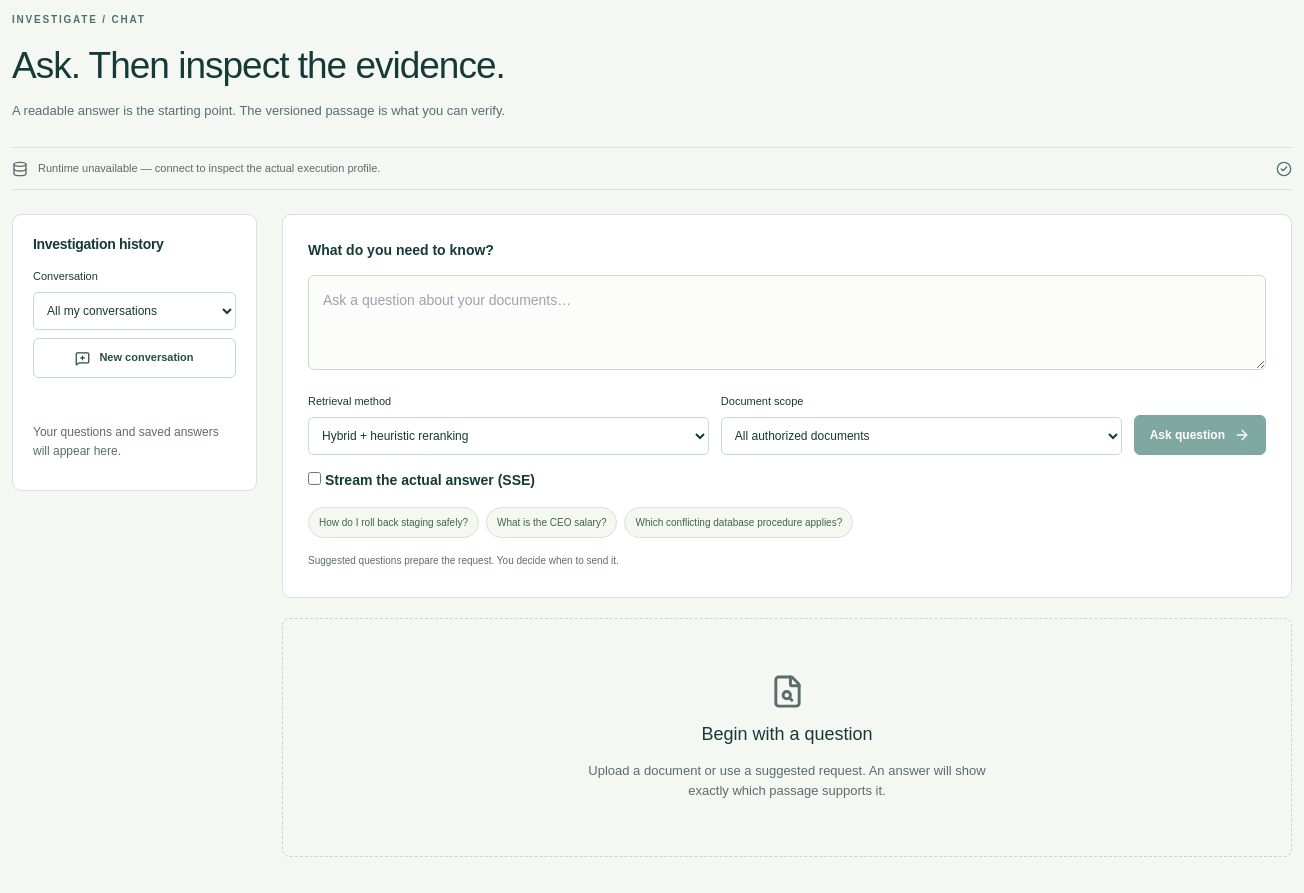
Test case: connected chat request lifecycle › can submit again after cancellation without old cleanup aborting the new request
The image size is (1304, 893).
Type "Private question" into the text box labelled "What do you need to know?".
click(787, 323); type("Private question")  # box [308, 275, 1266, 370]
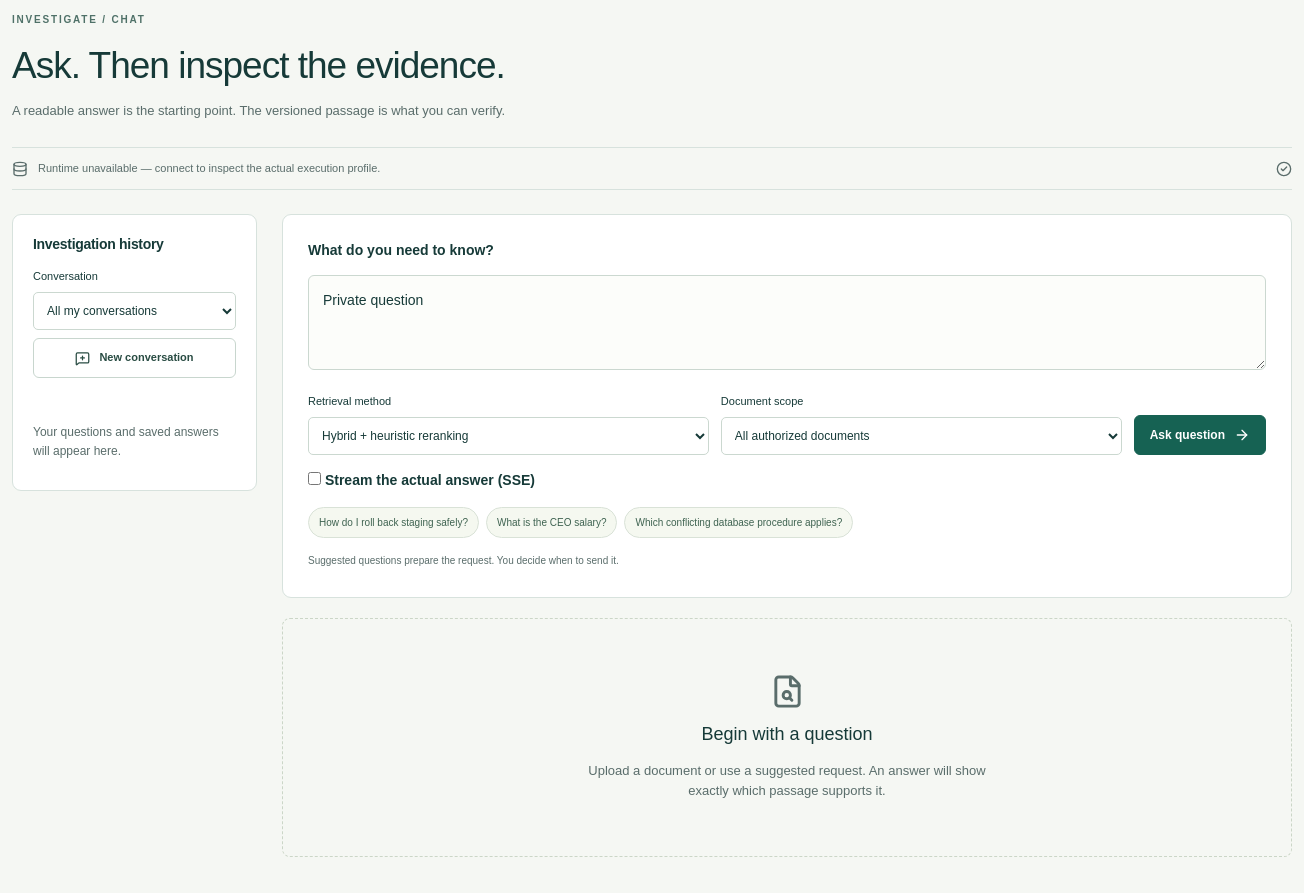
Click the button "Ask question".
click(1200, 435)  # box [1134, 415, 1266, 455]
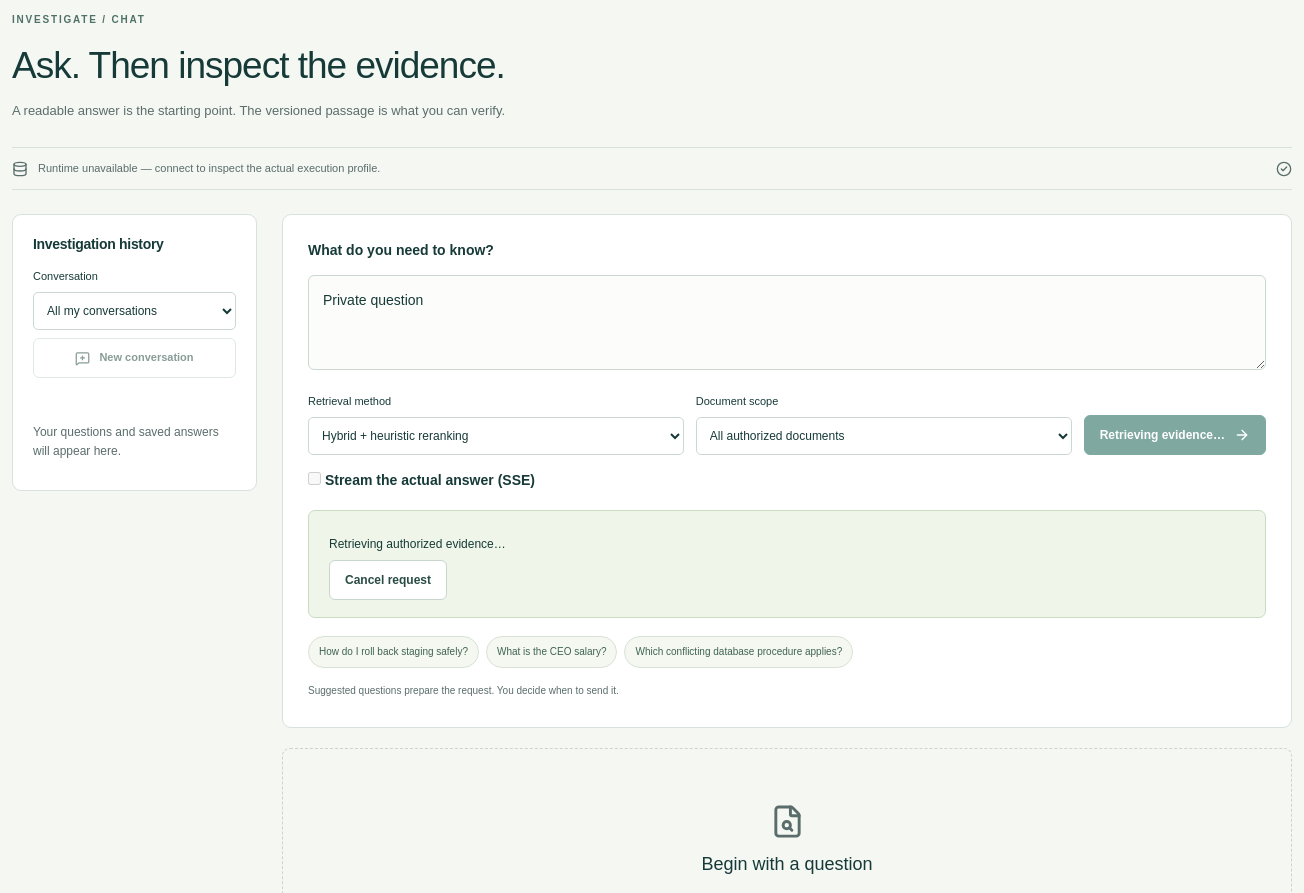
Click the button "Cancel request".
click(388, 580)  # box [329, 560, 447, 600]
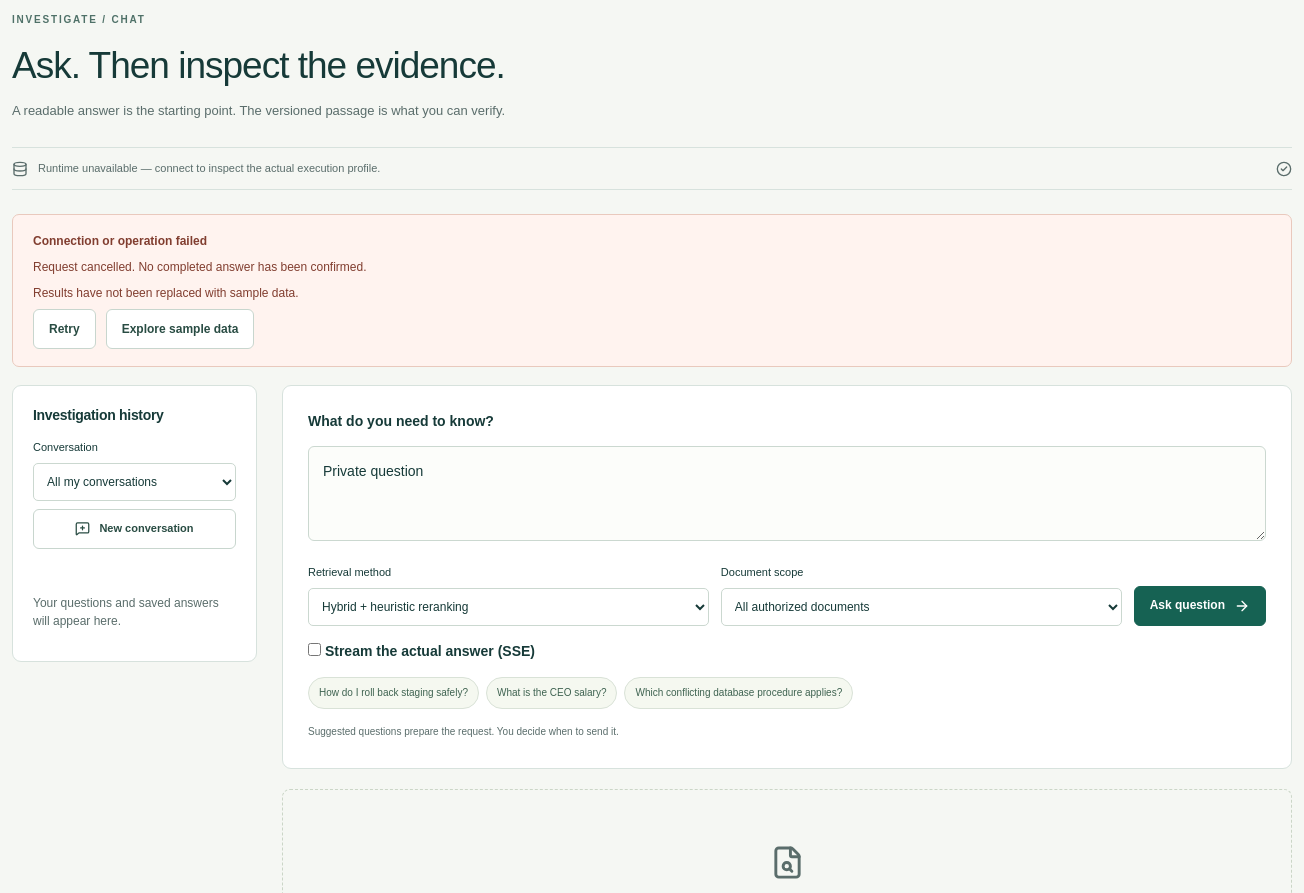
Now the button "Ask question" is enabled, box [1134, 586, 1266, 626]
Replace the text in the text box labelled "What do you need to know?" with "New request" at point(787, 493), box [308, 446, 1266, 541]
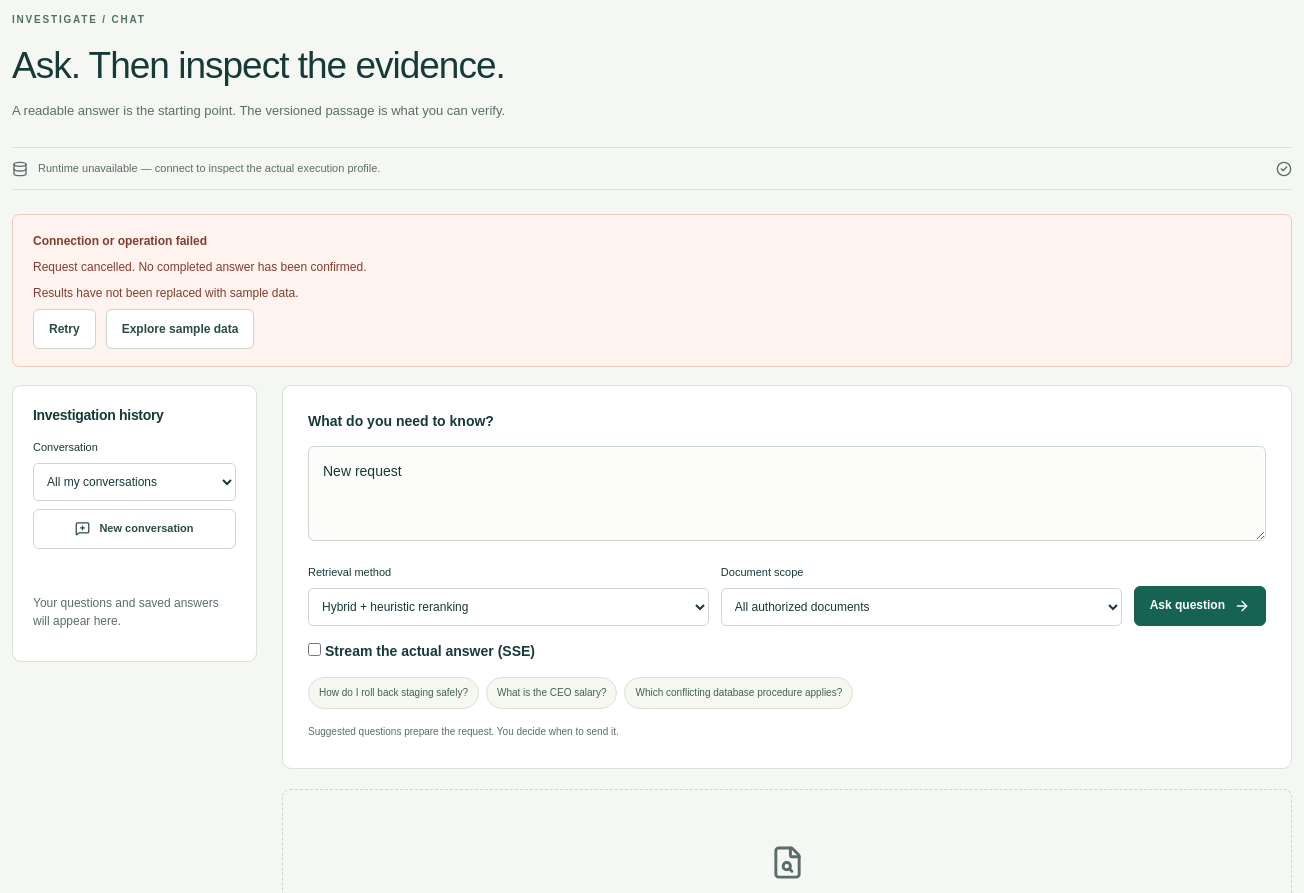
Click the button "Ask question".
click(1200, 606)  # box [1134, 586, 1266, 626]
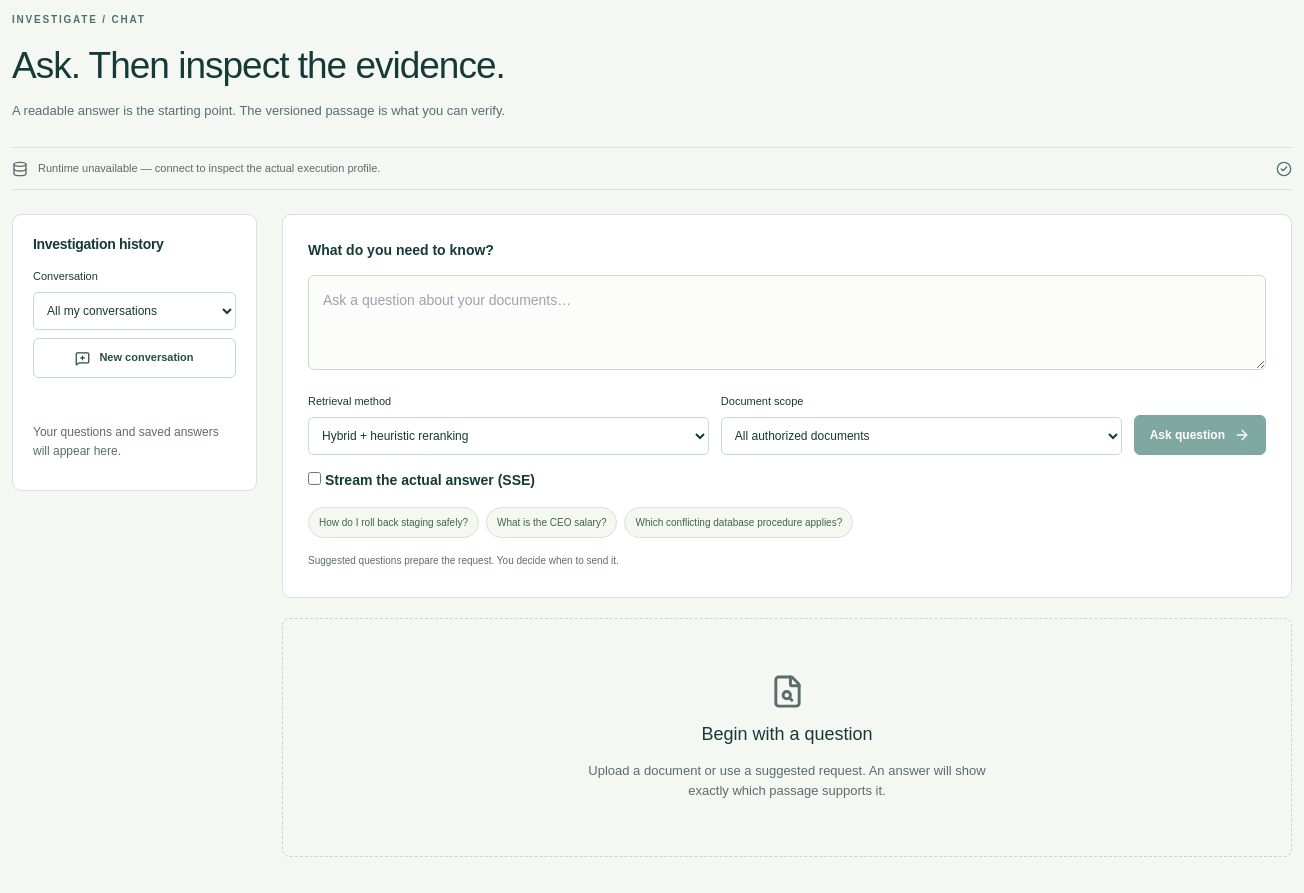
Now the button named "Retrieving evidence" is disabled, box [1134, 415, 1266, 455]
